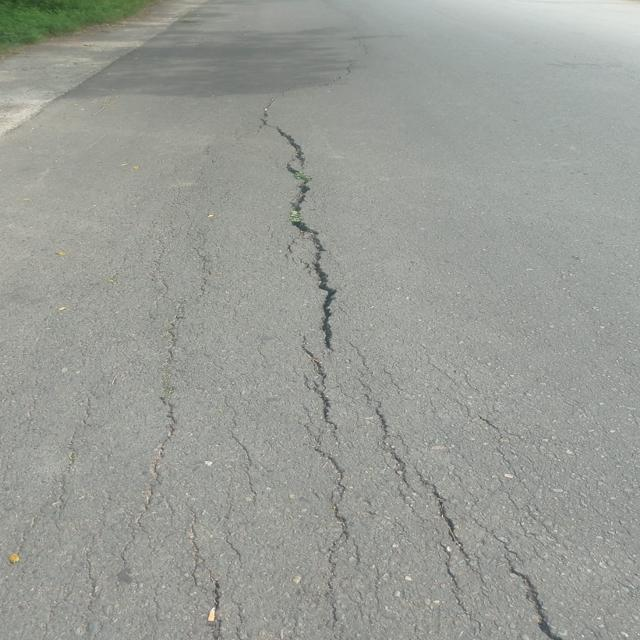Memanjang: (254, 77, 346, 364), (293, 373, 363, 635), (484, 532, 562, 640)
